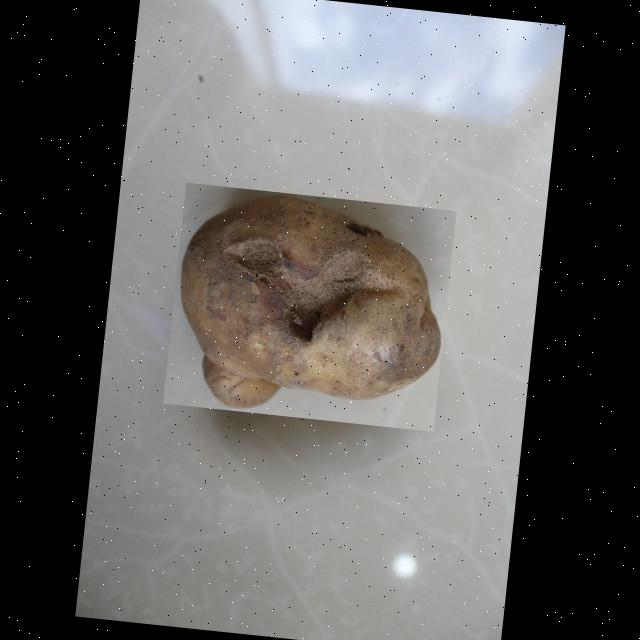Damaged potato: (162, 182, 456, 430)
